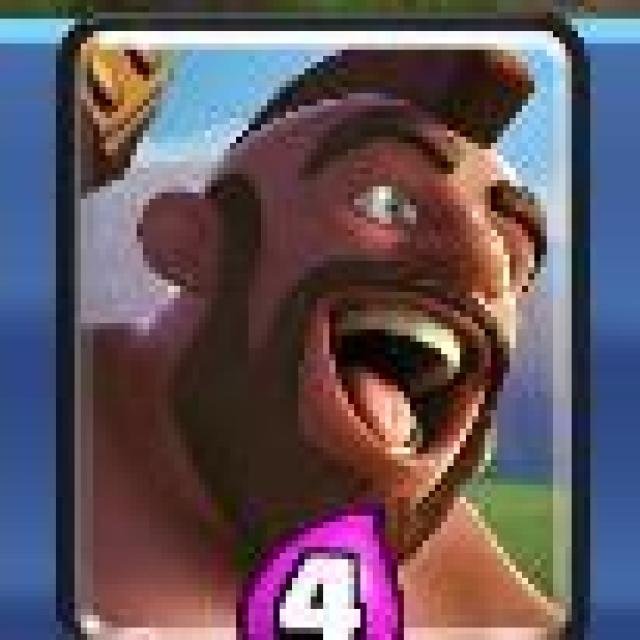Hog_Rider: (56, 14, 588, 640)
